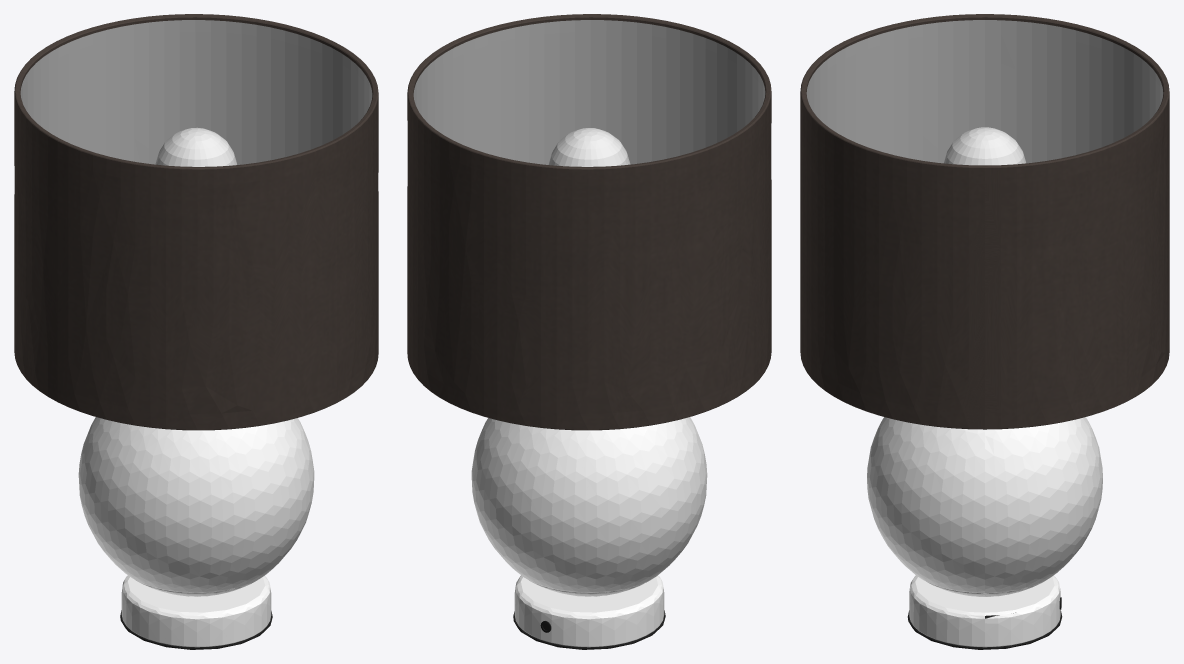
The model's file is IridescenceLamp.obj.
The picture shows the model from 3 angles, left to right: view 1: azimuth 30°, elevation 25°; view 2: azimuth 150°, elevation 25°; view 3: azimuth 270°, elevation 25°; orthographic projection.
Parts seen in each view (by area): view 1: part2, part0, part1; view 2: part2, part0, part1; view 3: part2, part0, part1.
Boxes of the visible parts, box(x1,y1,x2,y2) form: part2: box(14, 14, 378, 649); part0: box(20, 20, 372, 164); part1: box(78, 417, 314, 592); part2: box(407, 14, 771, 649); part0: box(413, 20, 765, 164); part1: box(471, 417, 707, 592); part2: box(800, 14, 1169, 649); part0: box(806, 20, 1163, 163); part1: box(867, 417, 1102, 593).
Bounding box in the file's own units: 0.2973 × 0.4761 × 0.3019.
3 materials, 3 textured.
